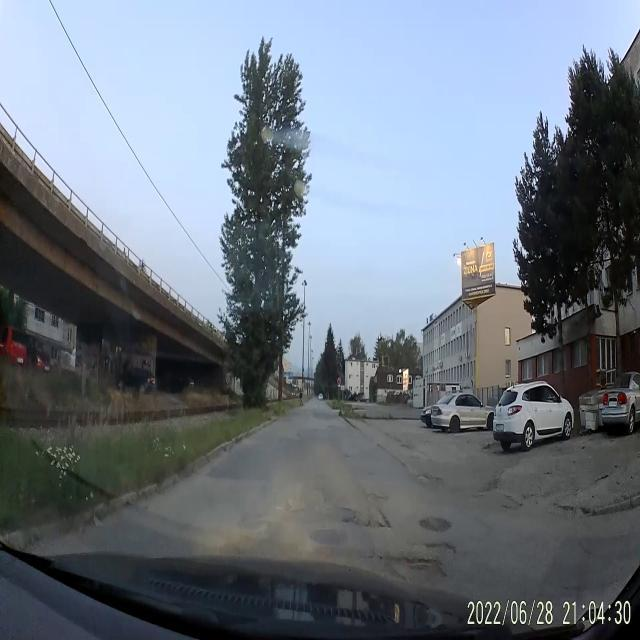Manhole: (309, 524, 353, 550), (416, 511, 449, 536), (324, 503, 357, 525)
Pothole: (384, 552, 452, 590), (426, 539, 456, 561), (357, 518, 393, 532)
